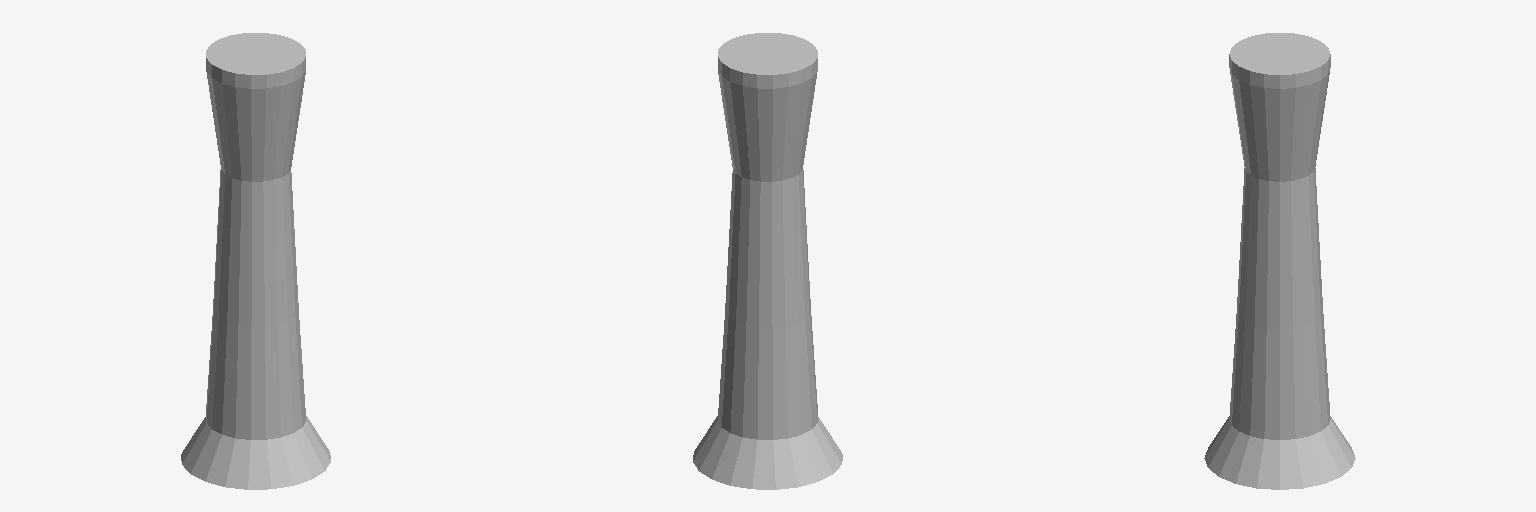
The model's file is Pilar.obj.
3 renders of one model, left to right at view 1: azimuth 30°, elevation 25°; view 2: azimuth 150°, elevation 25°; view 3: azimuth 270°, elevation 25°, orthographic.
Visible parts, largest first — view 1: Group2; view 2: Group2; view 3: Group2.
Part boxes in pixels (x1,y1,x2,y2): Group2: (181, 33, 330, 489); Group2: (693, 33, 842, 489); Group2: (1204, 33, 1355, 489).
Size of the model in its own units: 0.4683 by 1.38 by 0.4683.